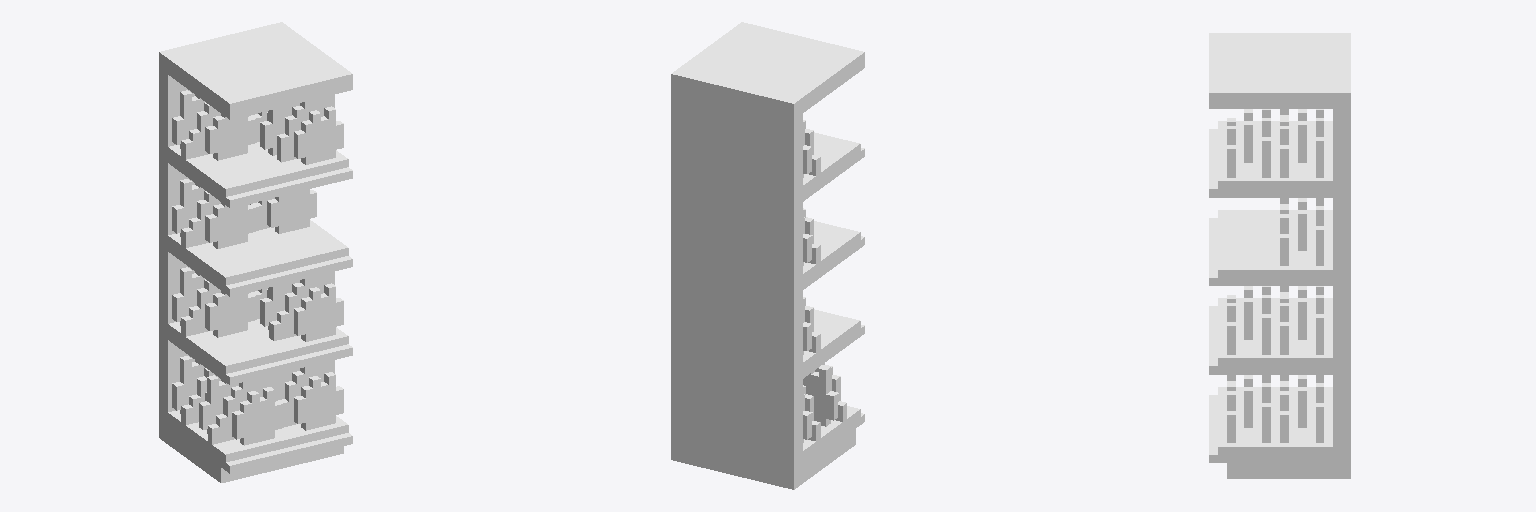
The model's file is fullVeggiesShelf1.obj.
3 renders of one model, left to right at view 1: azimuth 30°, elevation 25°; view 2: azimuth 150°, elevation 25°; view 3: azimuth 270°, elevation 25°, orthographic.
Visible parts, largest first — view 1: object 1; view 2: object 1; view 3: object 1.
Boxes of the visible parts, box(x1,y1,x2,y2) form: object 1: box(159, 22, 352, 482); object 1: box(671, 22, 864, 489); object 1: box(1209, 33, 1350, 478).
Size of the model in its own units: 1.6 by 4.8 by 1.6.